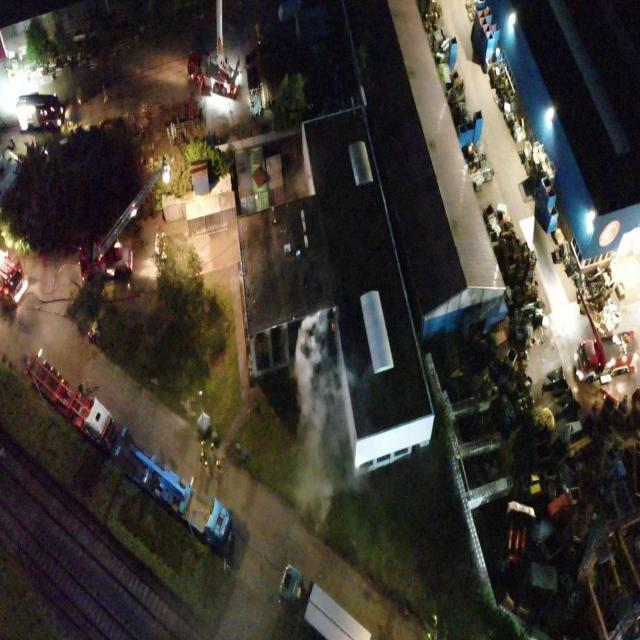Fire: (332, 322, 334, 333)
Smoke: (291, 304, 375, 526), (281, 166, 311, 202)
